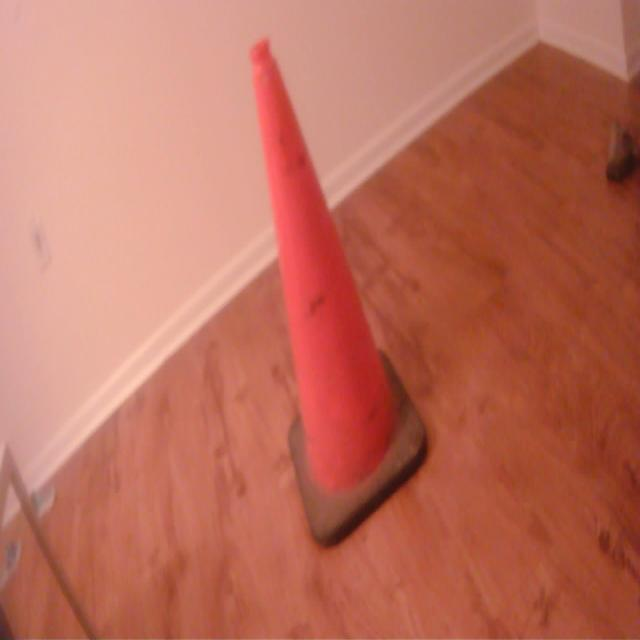traffic cone: (247, 31, 432, 555)
